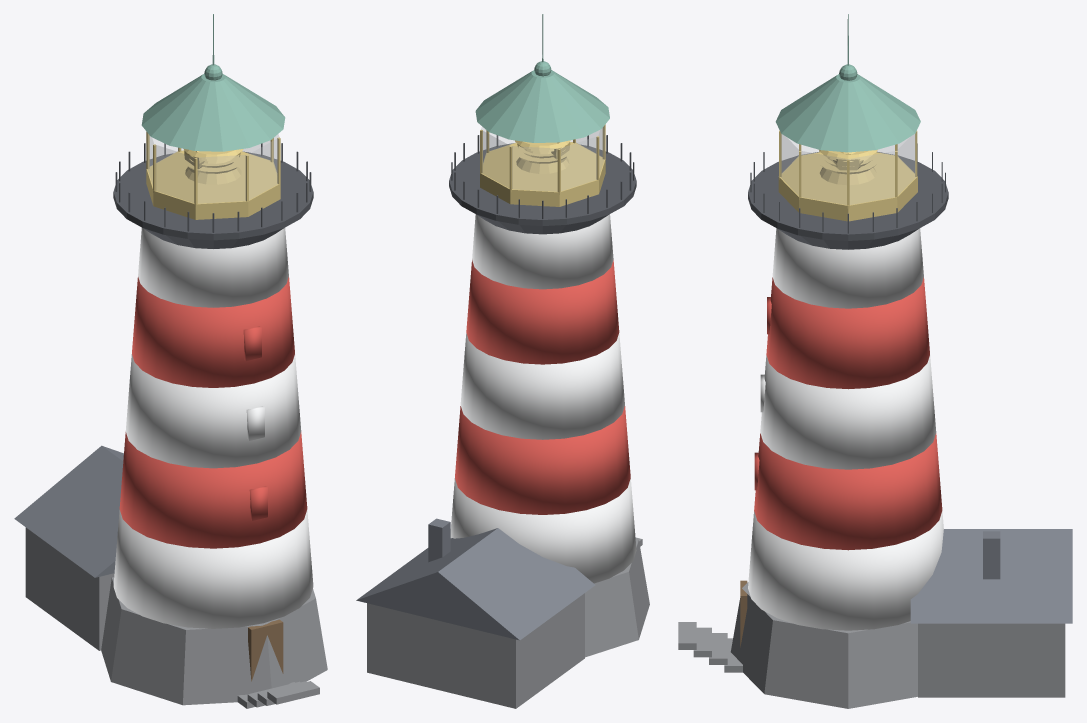
The model's file is lighthouse.glb.
3 views of the same model, side by side, from view 1: azimuth 30°, elevation 25°; view 2: azimuth 150°, elevation 25°; view 3: azimuth 270°, elevation 25° (orthographic). The views are drawn at different scales.
Visible parts, largest first — view 1: Lighthouse_Foundation, Tower_Band_0, Tower_Band_1, Tower_Band_2, Tower_Band_3, Tower_Band_4, Cottage_Roof, Cupola_Roof, Gallery_Balcony, Lantern_Murette, Keeper_Cottage, Lantern_Glass (+2 smaller); view 2: Cottage_Roof, Keeper_Cottage, Tower_Band_1, Tower_Band_2, Tower_Band_3, Tower_Band_0, Tower_Band_4, Cupola_Roof, Gallery_Balcony, Lantern_Murette, Lantern_Glass, Lighthouse_Foundation (+1 smaller); view 3: Lighthouse_Foundation, Tower_Band_1, Tower_Band_0, Tower_Band_2, Cottage_Roof, Tower_Band_3, Keeper_Cottage, Tower_Band_4, Cupola_Roof, Gallery_Balcony, Lantern_Murette, Lantern_Glass (+1 smaller).
Part boxes in pixels (bbox=[...]): Lighthouse_Foundation: bbox=[101, 577, 327, 708]; Tower_Band_0: bbox=[113, 510, 313, 628]; Tower_Band_1: bbox=[119, 432, 307, 548]; Tower_Band_2: bbox=[125, 354, 301, 468]; Tower_Band_3: bbox=[132, 277, 294, 387]; Tower_Band_4: bbox=[138, 228, 288, 307]; Cottage_Roof: bbox=[14, 445, 123, 577]; Cupola_Roof: bbox=[141, 14, 285, 151]; Gallery_Balcony: bbox=[113, 143, 313, 248]; Lantern_Murette: bbox=[146, 131, 280, 219]; Keeper_Cottage: bbox=[25, 527, 114, 650]; Lantern_Glass: bbox=[148, 134, 279, 203]; Cottage_Roof: bbox=[356, 518, 595, 640]; Keeper_Cottage: bbox=[367, 593, 584, 708]; Tower_Band_1: bbox=[455, 406, 630, 514]; Tower_Band_2: bbox=[460, 333, 624, 439]; Tower_Band_3: bbox=[466, 260, 619, 364]; Tower_Band_0: bbox=[450, 478, 636, 583]; Tower_Band_4: bbox=[472, 214, 613, 289]; Cupola_Roof: bbox=[475, 14, 609, 142]; Gallery_Balcony: bbox=[449, 135, 636, 234]; Lantern_Murette: bbox=[480, 124, 605, 206]; Lantern_Glass: bbox=[481, 126, 604, 191]; Lighthouse_Foundation: bbox=[585, 537, 649, 657]; Lighthouse_Foundation: bbox=[678, 582, 917, 708]; Tower_Band_1: bbox=[754, 433, 942, 550]; Tower_Band_0: bbox=[748, 511, 943, 630]; Tower_Band_2: bbox=[760, 355, 936, 469]; Cottage_Roof: bbox=[910, 529, 1072, 623]; Tower_Band_3: bbox=[766, 277, 929, 389]; Keeper_Cottage: bbox=[918, 623, 1065, 697]; Tower_Band_4: bbox=[772, 228, 923, 308]; Cupola_Roof: bbox=[775, 14, 920, 152]; Gallery_Balcony: bbox=[748, 143, 948, 249]; Lantern_Murette: bbox=[778, 130, 917, 221]; Lantern_Glass: bbox=[780, 133, 915, 204].
Size of the model in its own units: 11.6 by 34.75 by 19.26.
